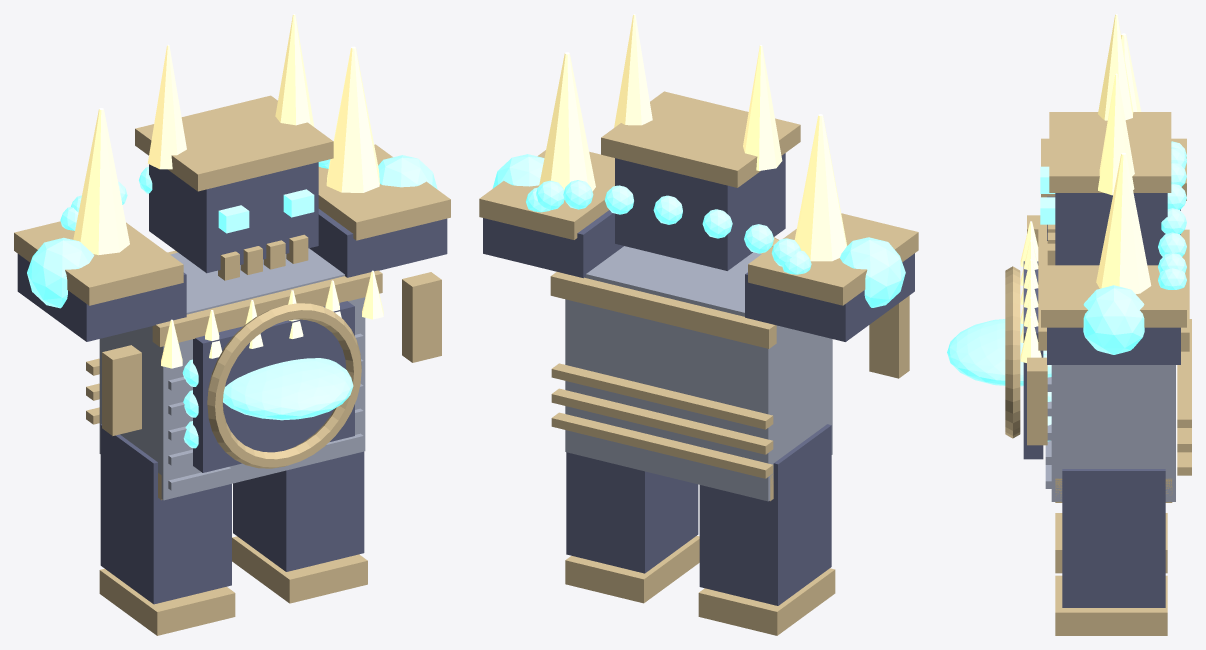
File: GardenSentinel_Ornate_Mobile.glb
The picture shows the model from 3 angles, left to right: view 1: azimuth 30°, elevation 25°; view 2: azimuth 150°, elevation 25°; view 3: azimuth 270°, elevation 25°; orthographic projection. The views are drawn at different scales.
Visible parts, largest first — view 1: GardenSentinel_Ornate_Mobile.glb_shadow, GardenSentinel_Ornate_Mobile.glb_gold, GardenSentinel_Ornate_Mobile.glb_gold_high, GardenSentinel_Ornate_Mobile.glb_stone, GardenSentinel_Ornate_Mobile.glb_cyan; view 2: GardenSentinel_Ornate_Mobile.glb_shadow, GardenSentinel_Ornate_Mobile.glb_gold, GardenSentinel_Ornate_Mobile.glb_stone, GardenSentinel_Ornate_Mobile.glb_gold_high, GardenSentinel_Ornate_Mobile.glb_cyan; view 3: GardenSentinel_Ornate_Mobile.glb_gold, GardenSentinel_Ornate_Mobile.glb_shadow, GardenSentinel_Ornate_Mobile.glb_stone, GardenSentinel_Ornate_Mobile.glb_cyan, GardenSentinel_Ornate_Mobile.glb_gold_high.
Part boxes in pixels (x1,y1,x2,y2): GardenSentinel_Ornate_Mobile.glb_shadow: (17, 162, 447, 604); GardenSentinel_Ornate_Mobile.glb_gold: (14, 95, 450, 635); GardenSentinel_Ornate_Mobile.glb_gold_high: (73, 14, 383, 368); GardenSentinel_Ornate_Mobile.glb_stone: (99, 248, 365, 500); GardenSentinel_Ornate_Mobile.glb_cyan: (27, 155, 437, 448); GardenSentinel_Ornate_Mobile.glb_shadow: (483, 153, 914, 605); GardenSentinel_Ornate_Mobile.glb_gold: (479, 91, 918, 635); GardenSentinel_Ornate_Mobile.glb_stone: (565, 246, 832, 501); GardenSentinel_Ornate_Mobile.glb_gold_high: (539, 14, 846, 261); GardenSentinel_Ornate_Mobile.glb_cyan: (492, 154, 905, 307); GardenSentinel_Ornate_Mobile.glb_gold: (1005, 112, 1191, 635); GardenSentinel_Ornate_Mobile.glb_shadow: (1023, 193, 1180, 607); GardenSentinel_Ornate_Mobile.glb_stone: (1045, 365, 1175, 501); GardenSentinel_Ornate_Mobile.glb_cyan: (947, 141, 1186, 441); GardenSentinel_Ornate_Mobile.glb_gold_high: (1020, 14, 1151, 362).
Bounding box in the file's own units: 3.7 × 4.91 × 2.01.
